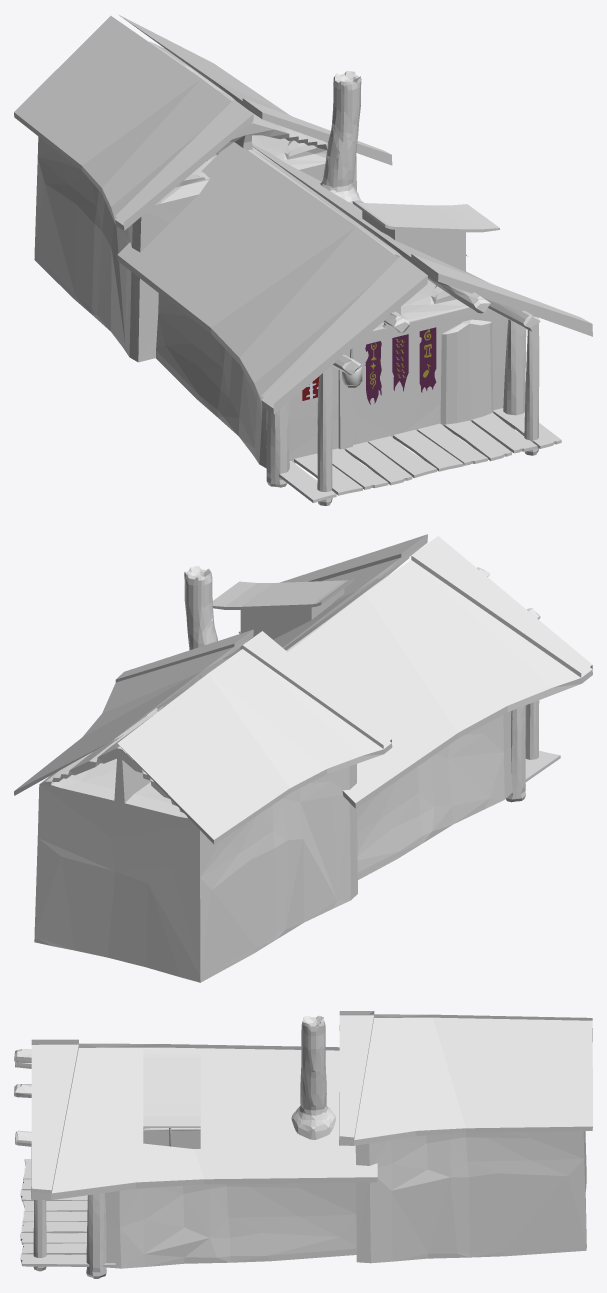
File: House01-8.fbx
3 views of the same model, one above another, from view 1: azimuth 30°, elevation 25°; view 2: azimuth 150°, elevation 25°; view 3: azimuth 270°, elevation 25° (orthographic). The views are drawn at different scales.
Parts seen in each view (by area): view 1: Hous1-8.LOD0; view 2: Hous1-8.LOD0; view 3: Hous1-8.LOD0.
Part boxes in pixels (box(x1,y1,x2,y2)): Hous1-8.LOD0: box(14, 14, 592, 505); Hous1-8.LOD0: box(14, 534, 592, 982); Hous1-8.LOD0: box(14, 1011, 592, 1278).
Size of what is drawn, in the model's own units: 900 by 727 by 1604.
